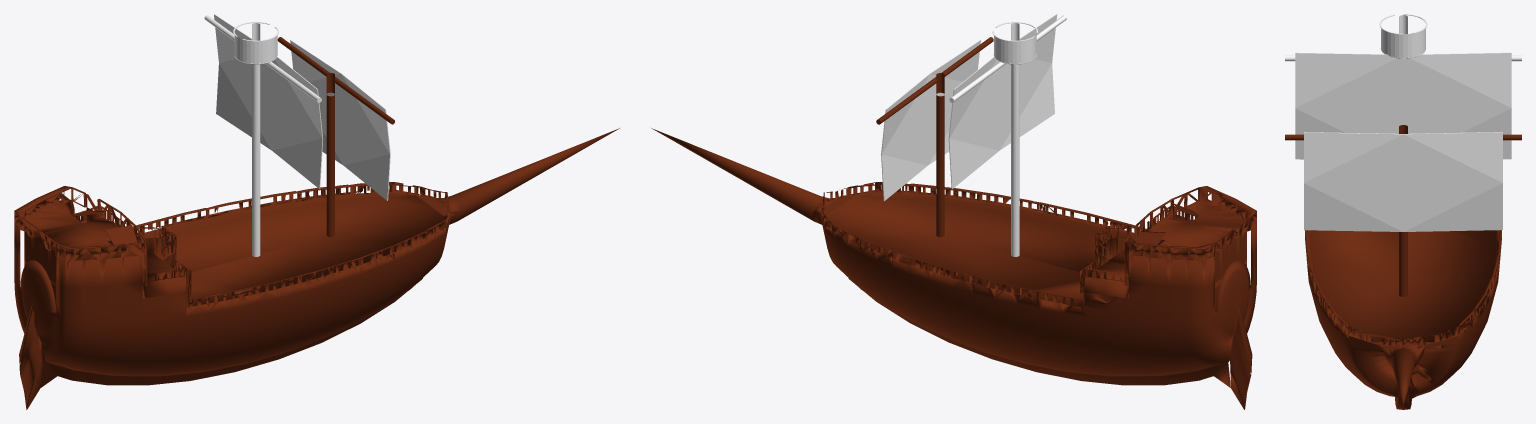
File: lab-test-model.glb
3 renders of one model, left to right at view 1: azimuth 30°, elevation 25°; view 2: azimuth 150°, elevation 25°; view 3: azimuth 270°, elevation 25°, orthographic. The views are drawn at different scales.
Visible parts, largest first — view 1: PirateShip, MainSail.001, MainSail, Cylinder.002, Cylinder, Cylinder.001, Cylinder.003; view 2: PirateShip, MainSail.001, MainSail, Cylinder.002, Cylinder, Cylinder.001, Cylinder.003; view 3: PirateShip, MainSail, MainSail.001, Cylinder.002, Cylinder, Cylinder.001.
Part boxes in pixels (bbox=[...]): PirateShip: bbox=[14, 128, 619, 409]; MainSail.001: bbox=[214, 14, 323, 189]; MainSail: bbox=[290, 40, 390, 200]; Cylinder.002: bbox=[233, 22, 278, 256]; Cylinder: bbox=[326, 73, 334, 237]; Cylinder.001: bbox=[277, 37, 394, 124]; Cylinder.003: bbox=[204, 15, 321, 102]; PirateShip: bbox=[651, 128, 1256, 409]; MainSail.001: bbox=[948, 14, 1057, 189]; MainSail: bbox=[881, 40, 980, 201]; Cylinder.002: bbox=[992, 22, 1038, 256]; Cylinder: bbox=[936, 73, 944, 237]; Cylinder.001: bbox=[876, 37, 993, 124]; Cylinder.003: bbox=[949, 15, 1066, 102]; PirateShip: bbox=[1305, 230, 1501, 409]; MainSail: bbox=[1304, 132, 1502, 231]; MainSail.001: bbox=[1295, 52, 1511, 159]; Cylinder.002: bbox=[1379, 14, 1427, 58]; Cylinder: bbox=[1399, 125, 1407, 296]; Cylinder.001: bbox=[1285, 134, 1521, 140].
Size of the model in its own units: 24.89 by 13.37 by 8.07.
